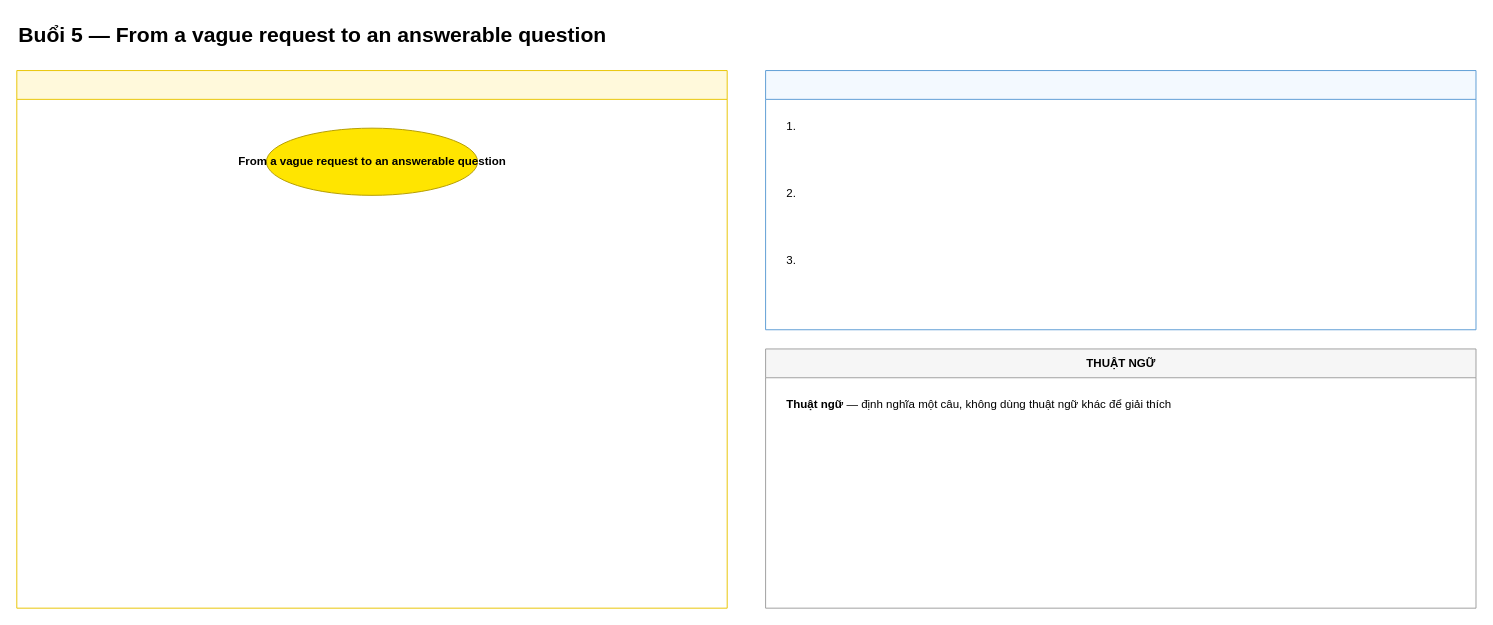
Some shapes in this 1493 by 625 pixel diagram are drawn without their labels. Here are the shapes that lost their labels. From the top down, the box of each, then its label:
(765, 70, 1476, 330): KEY TAKEAWAY — ba điều phải nhớ
(16, 70, 727, 608): MINDMAP
